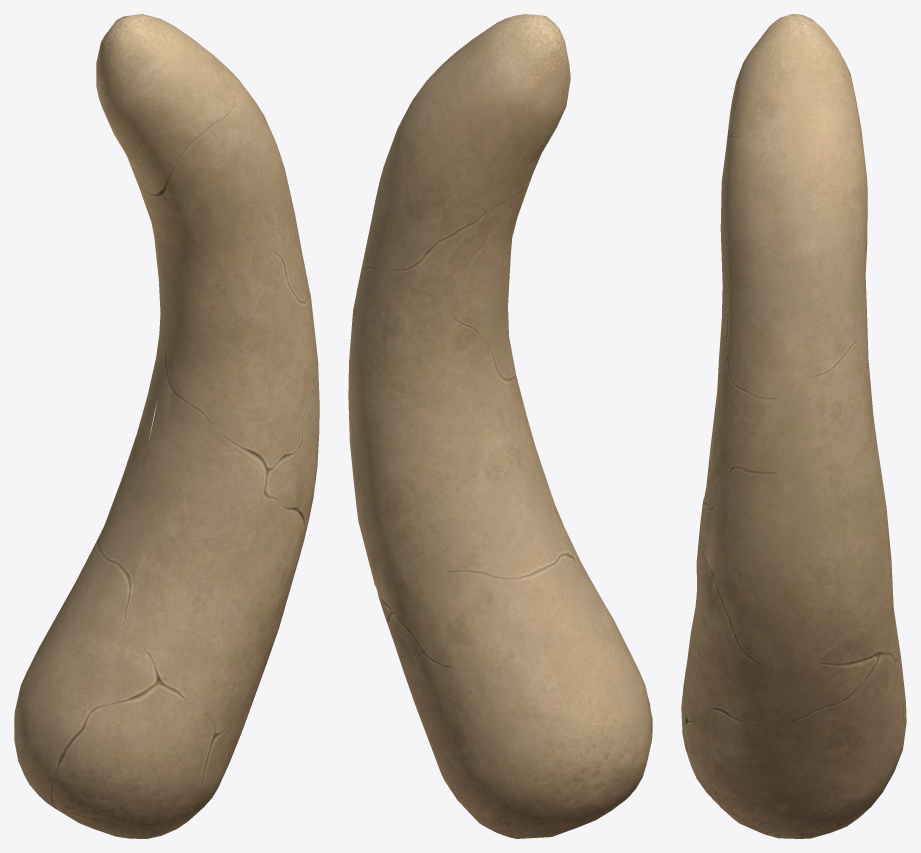
The picture shows the model from 3 angles, left to right: view 1: azimuth 30°, elevation 25°; view 2: azimuth 150°, elevation 25°; view 3: azimuth 270°, elevation 25°; orthographic projection.
Visible parts, largest first — view 1: tb_bone_01c; view 2: tb_bone_01c; view 3: tb_bone_01c.
Boxes of the visible parts, left/top/right/bottom form: tb_bone_01c: left=14, top=14, right=319, bottom=838; tb_bone_01c: left=348, top=14, right=652, bottom=838; tb_bone_01c: left=681, top=14, right=906, bottom=838.
Bounding box in the file's own units: 3.61 × 9.96 × 2.5.
Materials: 1 (1 with a texture image).
